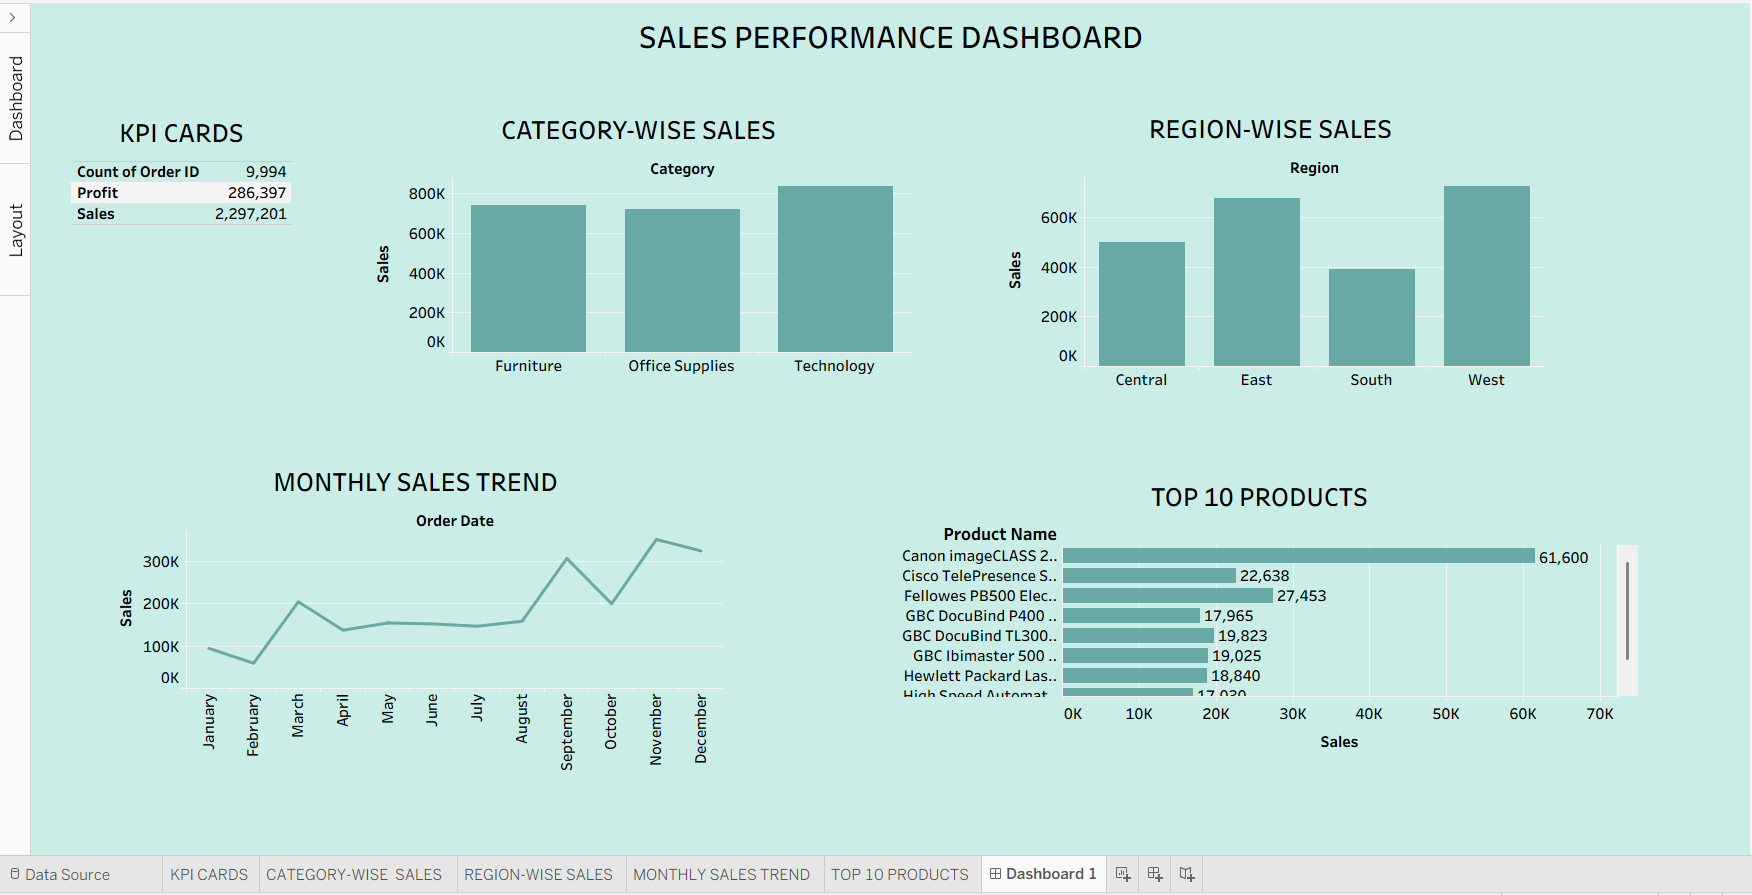

The page's visual inventory and layout, read from the dashboard file:
{"tool":"tableau","page":{"name":"Dashboard 1","canvas":[1000,1000],"units":"permille","ordinal":0},"visuals":[{"type":"title","box":[4.7,9.4,990.7,57.5]},{"type":"worksheet","title":"REGION-WISE SALES","mark":"Automatic","rows":["Sales"],"cols":["Region"],"box":[561.6,122.2,318,332.9]},{"type":"worksheet","title":"CATEGORY-WISE  SALES","mark":"Automatic","rows":["Sales"],"cols":["Category"],"box":[194.2,123.4,318,332.9]},{"type":"worksheet","title":"KPI CARDS","mark":"Automatic","box":[23.3,127,146.5,178.4]},{"type":"worksheet","title":"MONTHLY SALES TREND","mark":"Automatic","rows":["Sales"],"cols":["Order Date"],"box":[44.8,536.5,357.6,384.4]},{"type":"worksheet","title":"TOP 10 PRODUCTS","mark":"Automatic","rows":["Product Name"],"cols":["Sales"],"box":[506.4,554.5,427.9,332.9]}]}

Visuals, with their boxes on the dashboard's canvas, which has no fixed pixel size, in thousandths of its width and height (x1, y1, x2, y2). These are canvas units, not pixel positions in the 1752x895 screenshot, which may show the page scaled, cropped or inside an application window:
title: [5, 9, 995, 67]
"REGION-WISE SALES" worksheet: [562, 122, 880, 455]
"CATEGORY-WISE  SALES" worksheet: [194, 123, 512, 456]
"KPI CARDS" worksheet: [23, 127, 170, 305]
"MONTHLY SALES TREND" worksheet: [45, 536, 402, 921]
"TOP 10 PRODUCTS" worksheet: [506, 554, 934, 887]
